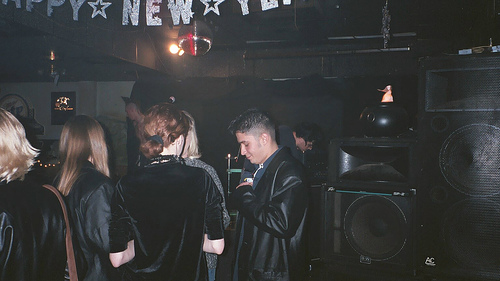without_mask: (235, 123, 276, 165), (292, 123, 321, 155)
